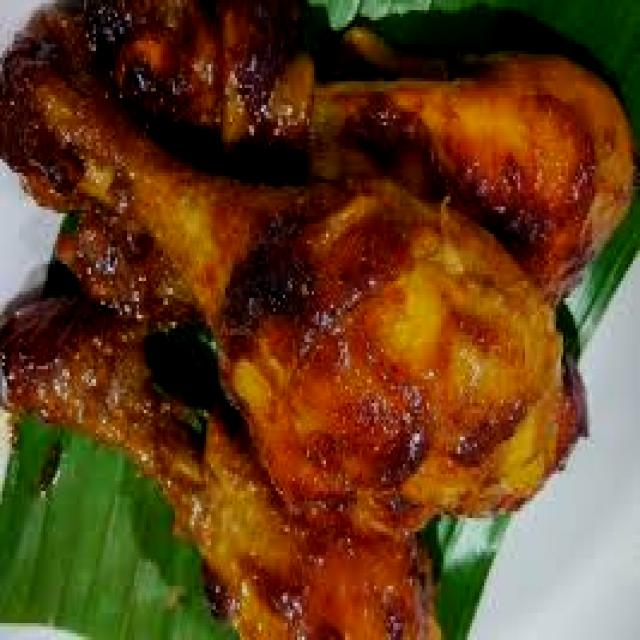ayam bakar: (0, 68, 566, 518), (0, 291, 441, 640)
